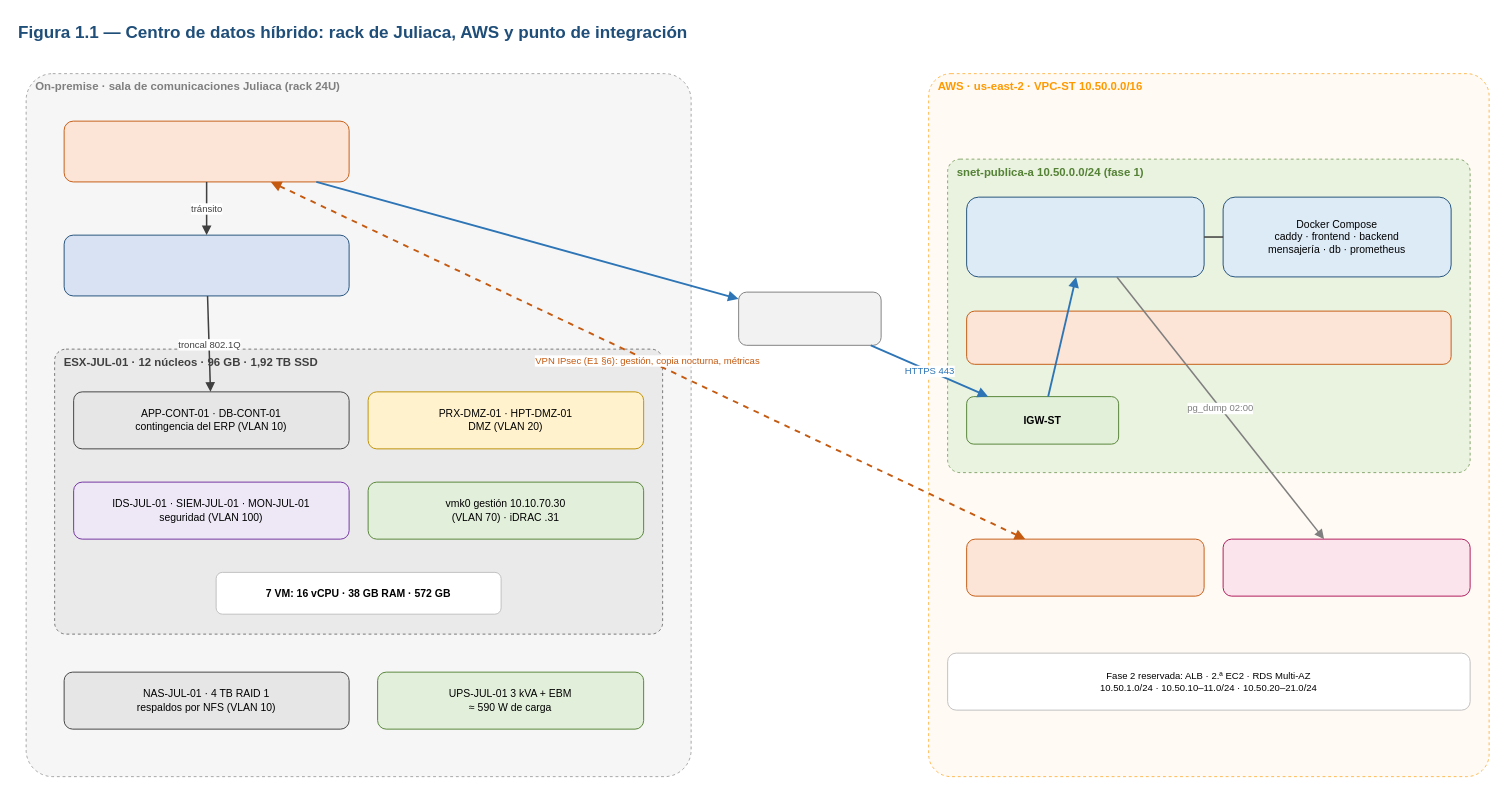
The diagram is 1506 pixels wide and 793 high, and some of its shapes have lost their labels. Here are the shapes that lost their labels. From the top down, the centre of each, then its label:
At pixel 206 151: "FW-JUL-01/02 (OPNsense HA) perímetro · VPN IPsec".
At pixel 1085 236: "EC2-ERP-01 · t3.large 2 vCPU · 8 GiB · gp3 20 GiB 10.50.0.10 + Elastic IP".
At pixel 206 265: "CORE-JUL (2 × L3 en stack) troncal 802.1Q · 10 GbE".
At pixel 809 318: "Internet".
At pixel 1208 337: "sg-erp + NACL 443/80 público · 22 y 9090 restringidos".
At pixel 1085 567: "VGW-ST VPN Site-to-Site".
At pixel 1346 567: "S3 respaldos + snapshots EBS (copia 2)".
